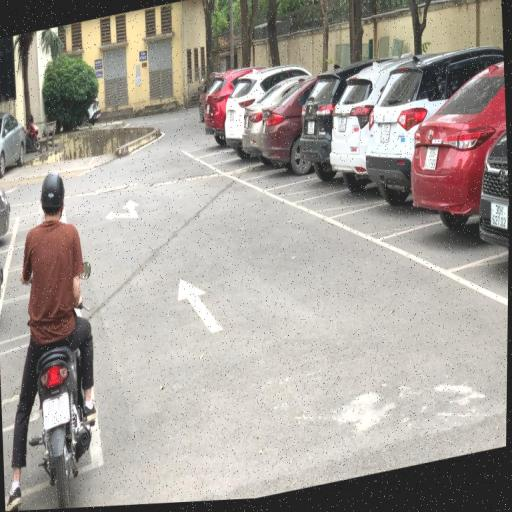bike: (0, 164, 105, 512)
numberplate: (43, 392, 72, 432)
with helmet: (40, 170, 66, 213)
